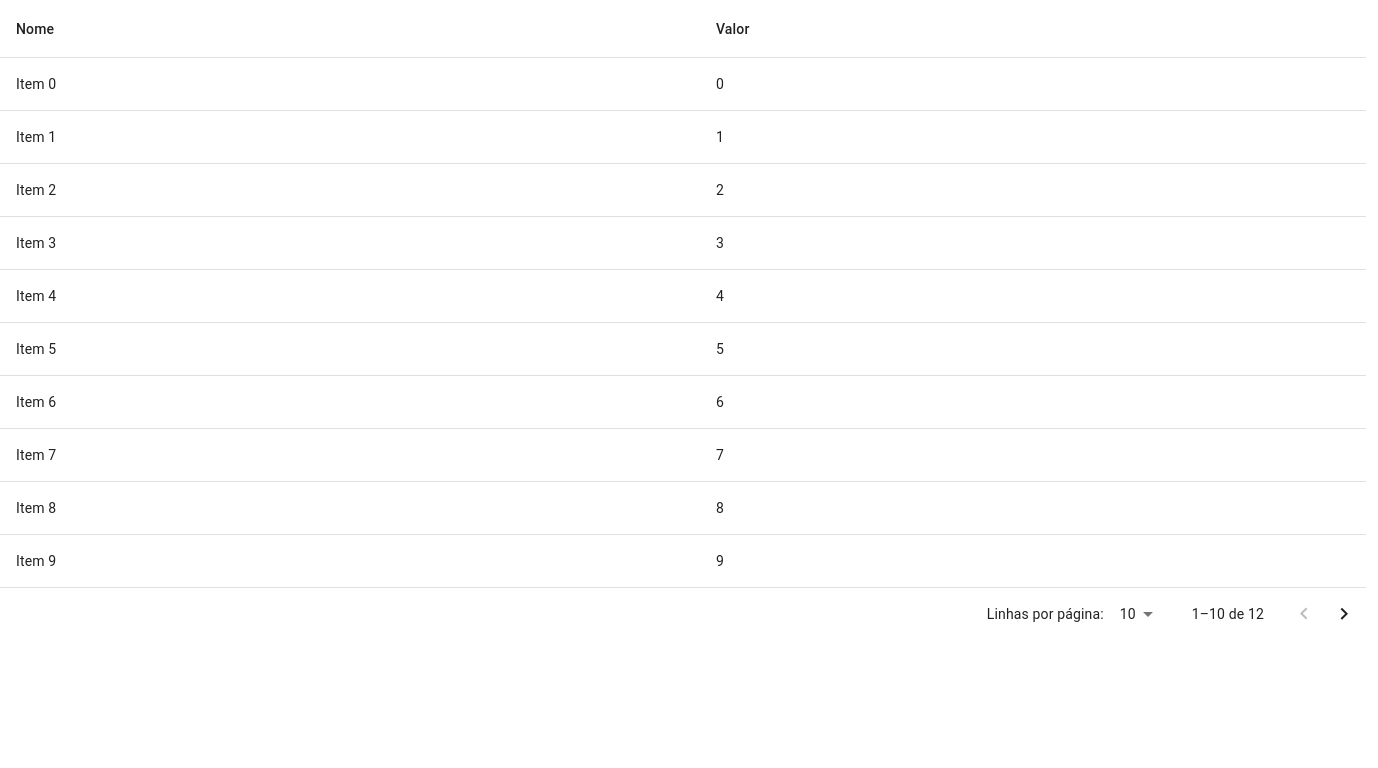
Test case: DataTable › pagina de 10 em 10 com rótulos em pt-BR
The image size is (1378, 768).
Check: the text "1–10 de 12" is shown, box x1=1192 y1=604 x2=1264 y2=624
Click the button named "Próxima página" at [1344, 614], box x1=1324 y1=594 x2=1364 y2=634
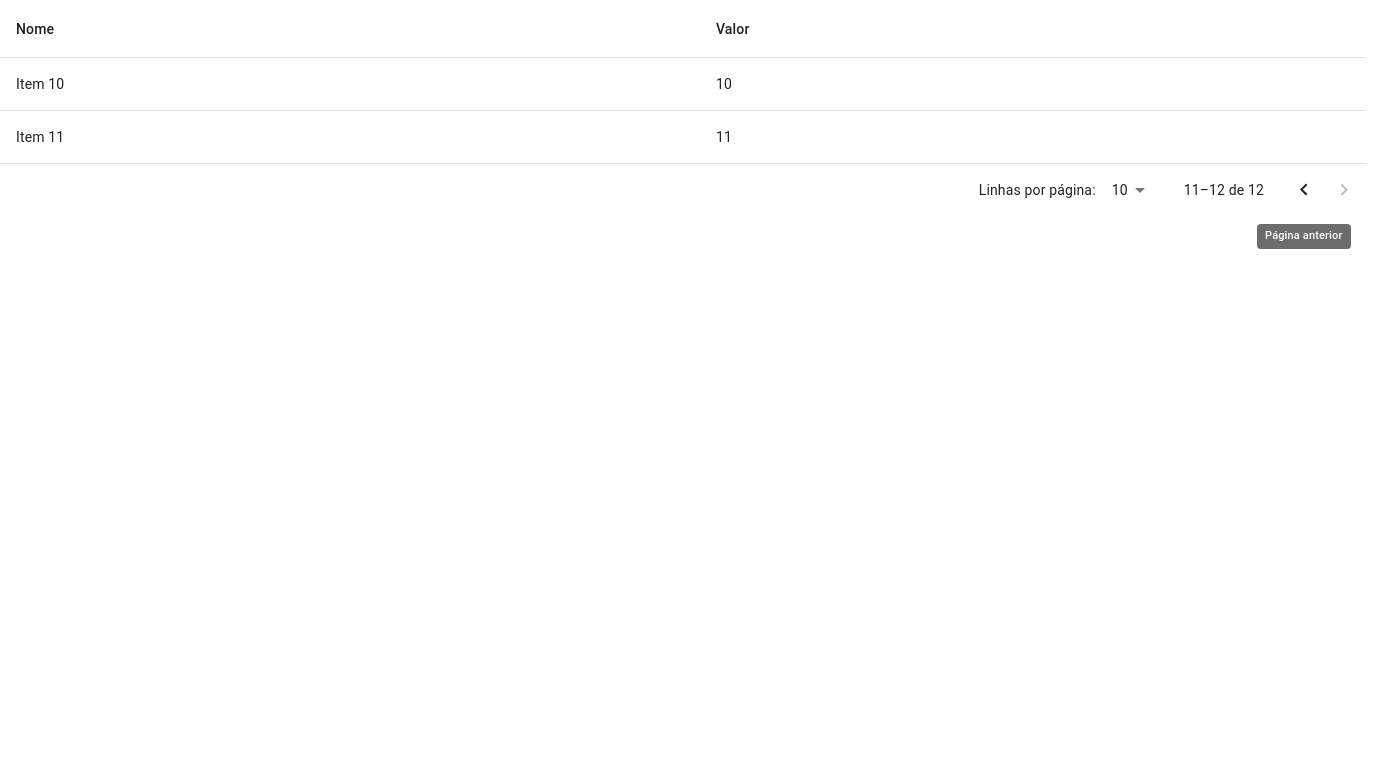
Check: the number of rows is 3, box x1=0 y1=0 x2=1366 y2=58; x1=0 y1=58 x2=1366 y2=111; x1=0 y1=111 x2=1366 y2=164
